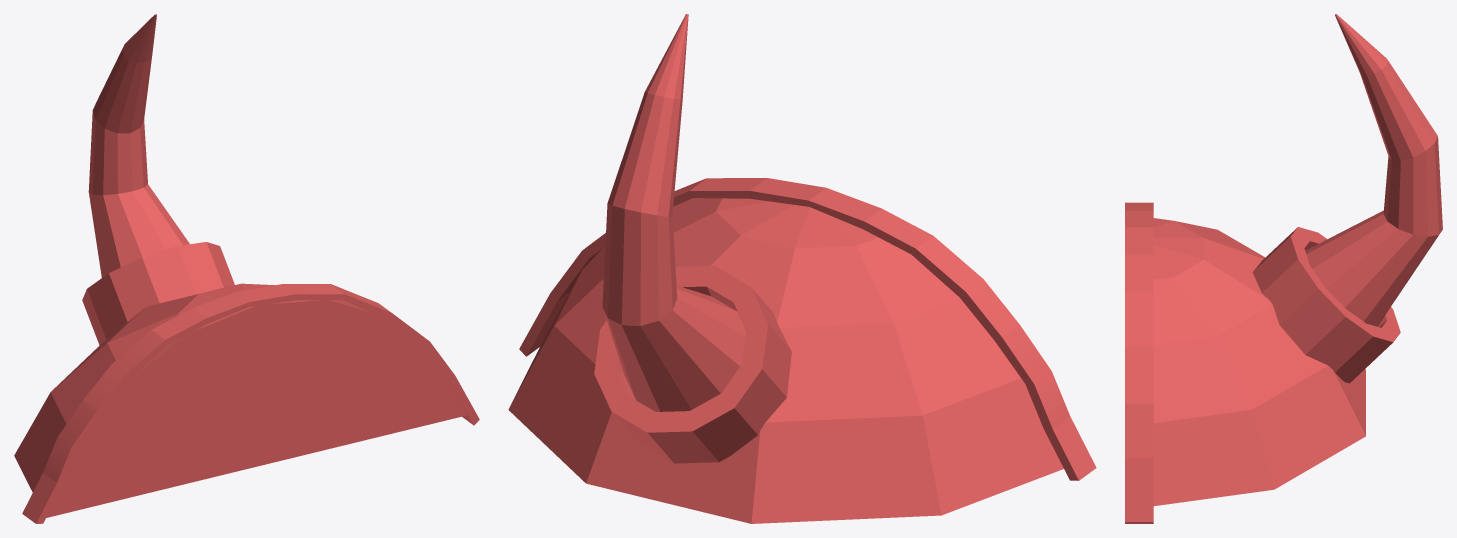
3 views of the same model, side by side, from view 1: azimuth 30°, elevation 25°; view 2: azimuth 150°, elevation 25°; view 3: azimuth 270°, elevation 25° (orthographic). The views are drawn at different scales.
Parts seen in each view (by area): view 1: polySurface24; view 2: polySurface24; view 3: polySurface24.
Boxes of the visible parts, box(x1,y1,x2,y2) form: polySurface24: box(14, 14, 479, 523); polySurface24: box(508, 14, 1096, 523); polySurface24: box(1125, 14, 1442, 523).
Bounding box in the file's own units: 11.47 × 9.61 × 6.91.
